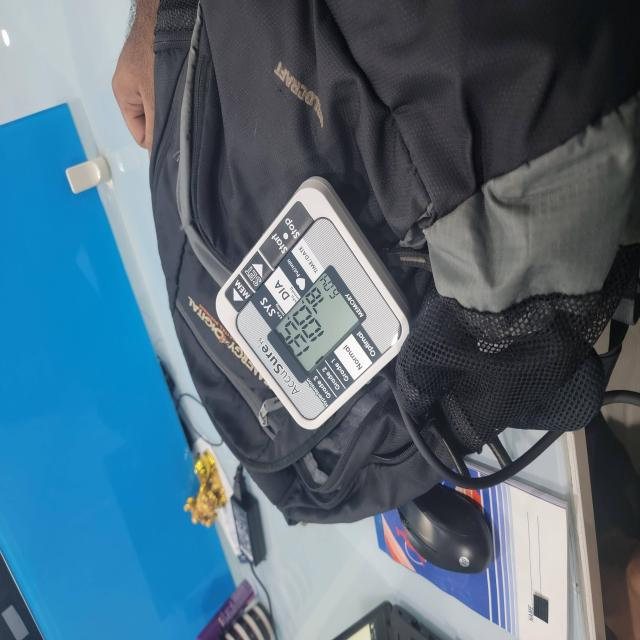bp: (214, 177, 409, 435)
